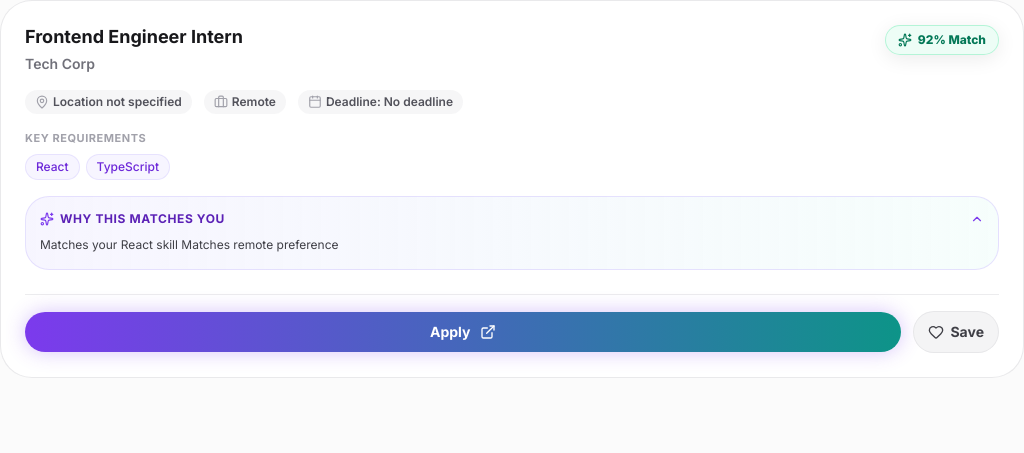
Test: RecommendationCard - Save/Unsave Toggle › does not falsely toggle state if save API fails
Step 1. Click the button "Save" → (956, 332), box [914, 311, 999, 353]
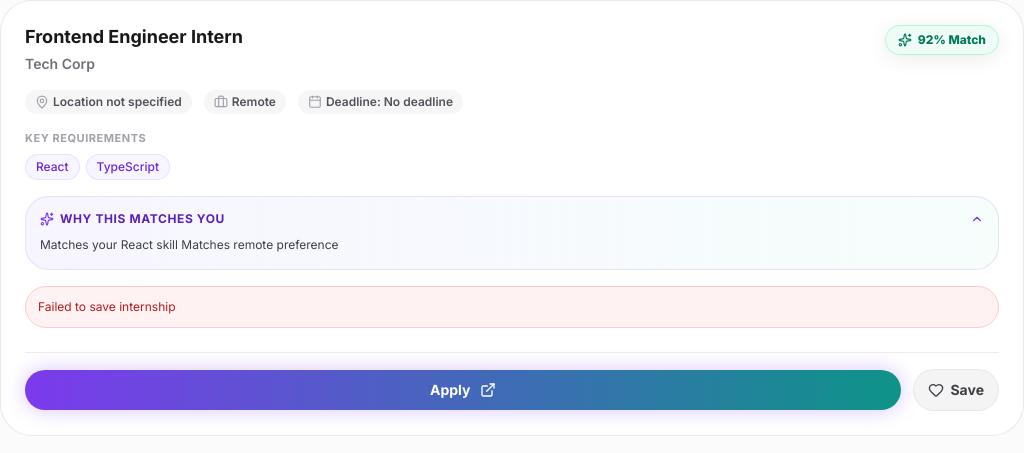
Expected: the button "Save" is shown, [914, 369, 999, 411]
Expected: the text "Failed to save internship" is shown, [25, 286, 999, 328]
